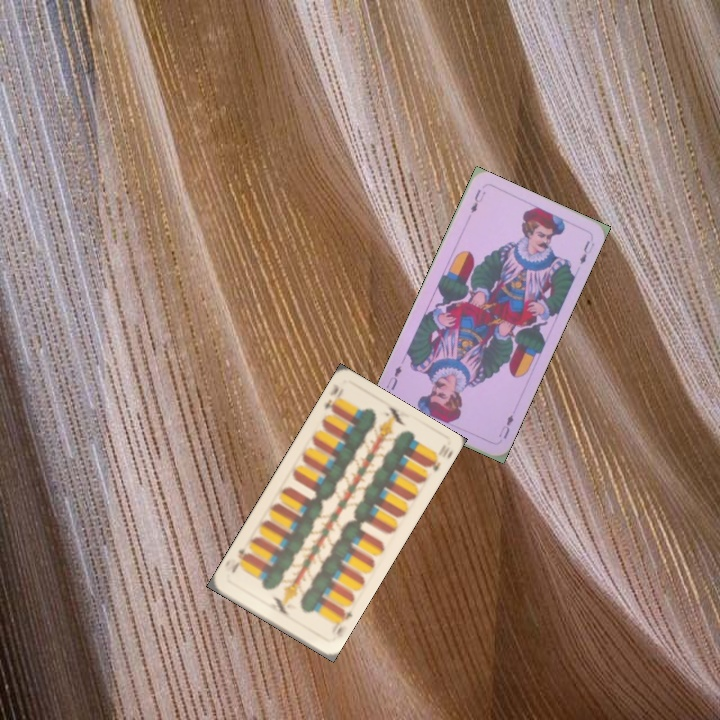E10: (327, 604, 355, 644), (320, 380, 341, 415)
EU: (495, 410, 516, 442), (466, 185, 488, 215)
